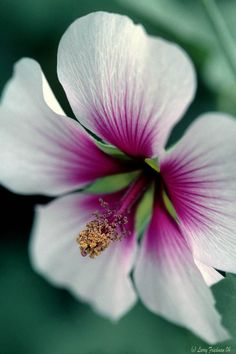Hibiscus: (1, 5, 235, 348)
